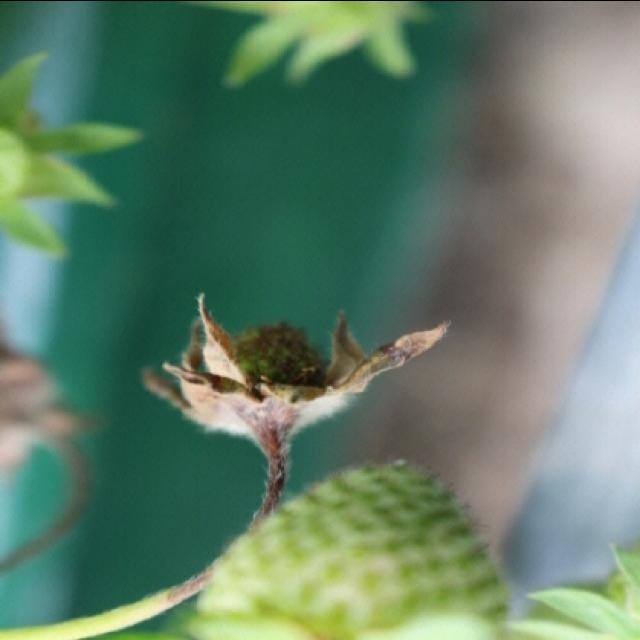Gray Mold: (143, 290, 452, 523)
